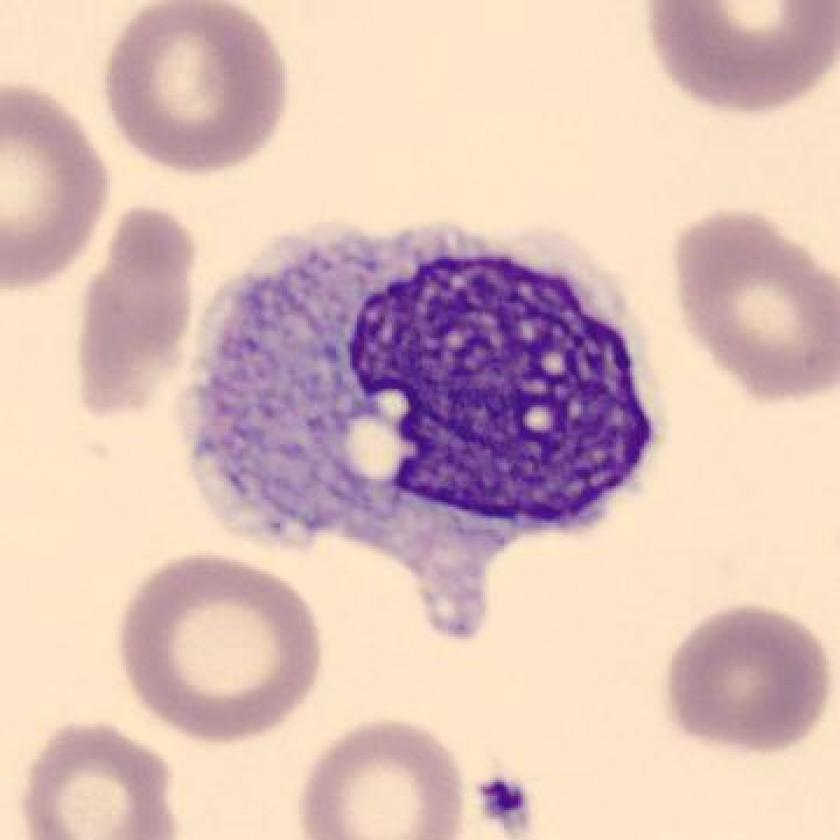monocyte: (169, 196, 678, 654)
